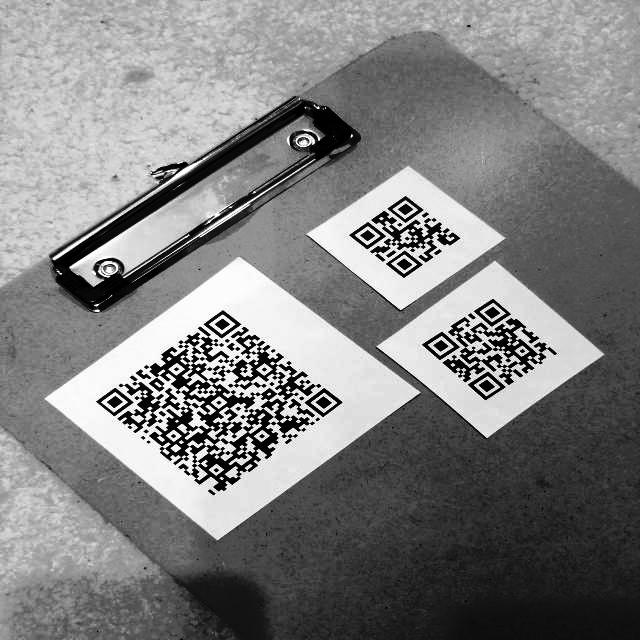qr_code: (86, 301, 352, 503), (416, 290, 566, 415), (340, 184, 472, 286)
